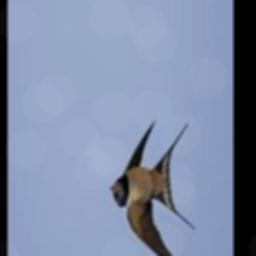Swallow: (109, 121, 196, 256)
